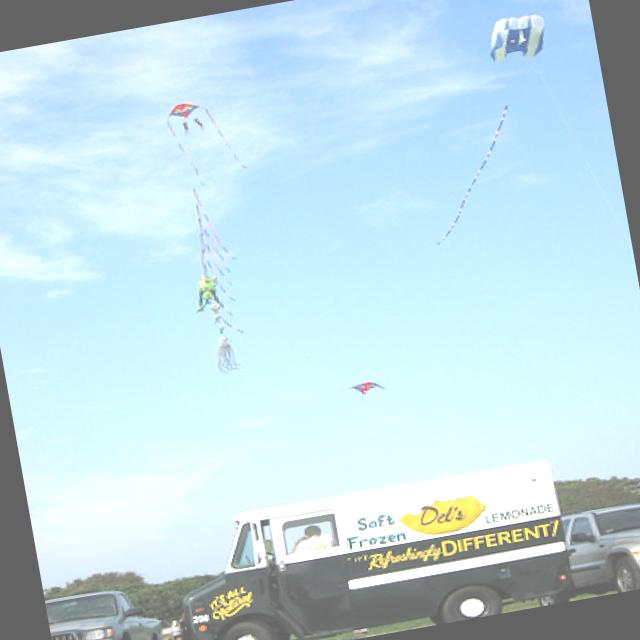Vehicle: (155, 453, 583, 640), (523, 494, 640, 606), (521, 496, 640, 606), (44, 581, 165, 640)
